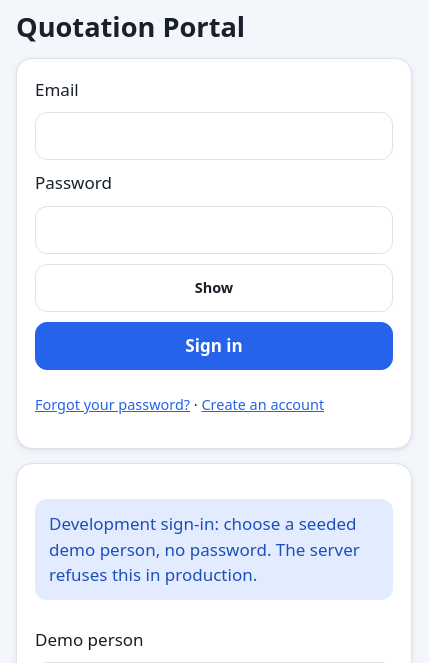
it: LoginPage › shows one generic message for every failure
expect the text "Development sign-in" is shown: met, box 49,512 -> 360,586
Type "ana@shop.example" into the field labelled "Email".
click(214, 136); type("ana@shop.example")  # box 35,112 -> 393,160
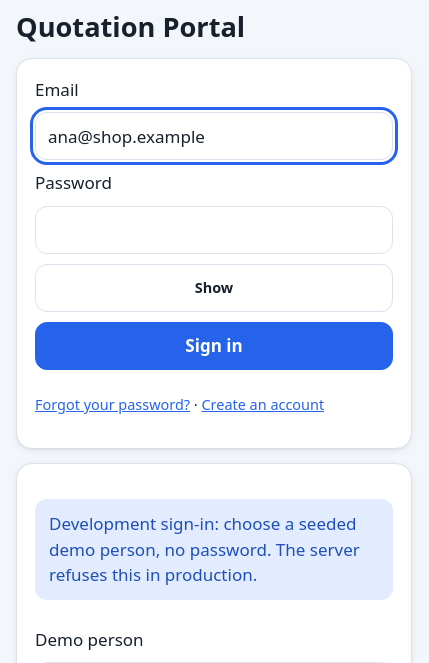
Type "a long passphrase" into the password field labelled "Password".
click(214, 230); type("a long passphrase")  # box 35,206 -> 393,254
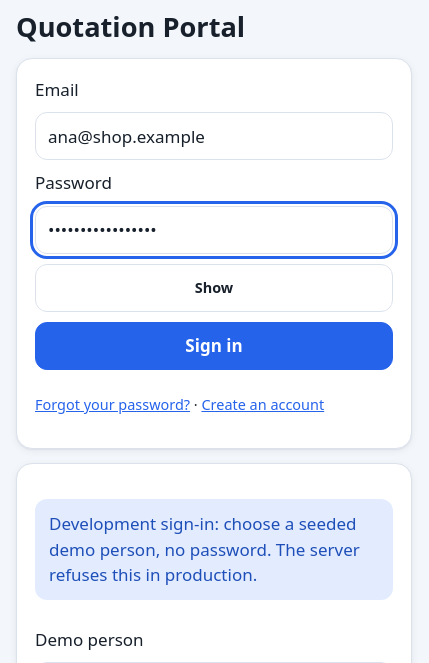
Click the button "Sign in".
click(214, 346)  # box 35,322 -> 393,370
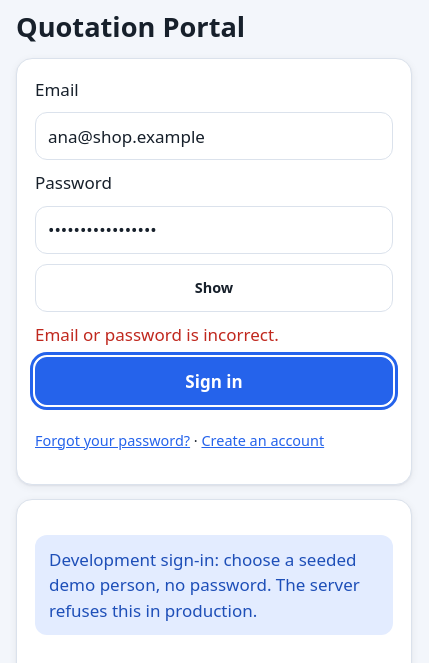
expect the text "Email or password is incorrect." is shown: met, box 35,323 -> 279,346
